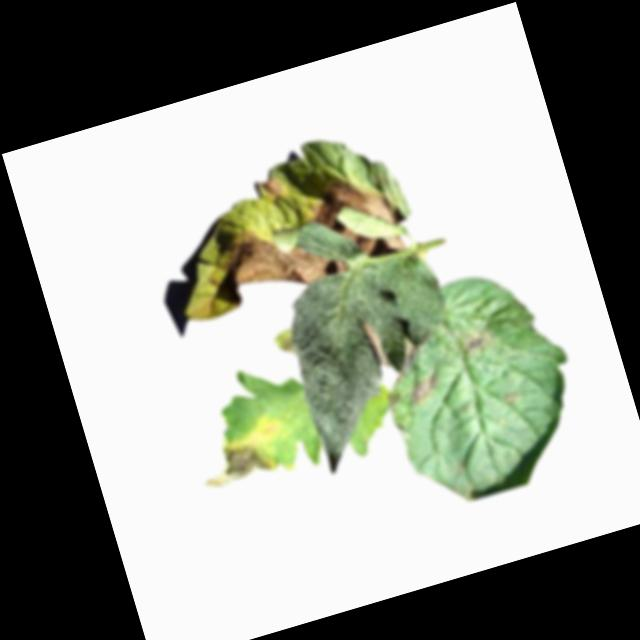Late_blight: (197, 207, 349, 313), (307, 167, 409, 272), (191, 413, 294, 494), (455, 323, 496, 362), (403, 371, 444, 409), (361, 318, 390, 371), (255, 173, 285, 205), (271, 328, 298, 363), (499, 389, 523, 411)
healthy: (276, 247, 482, 474)
